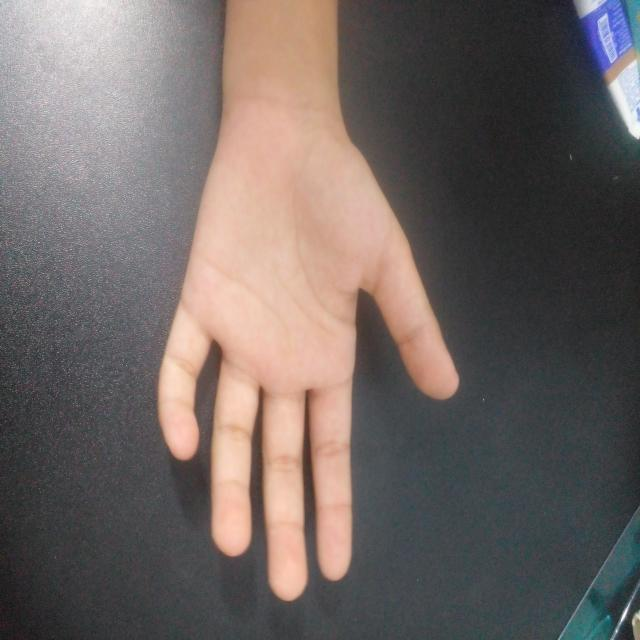Open Hand: (152, 121, 467, 603)
